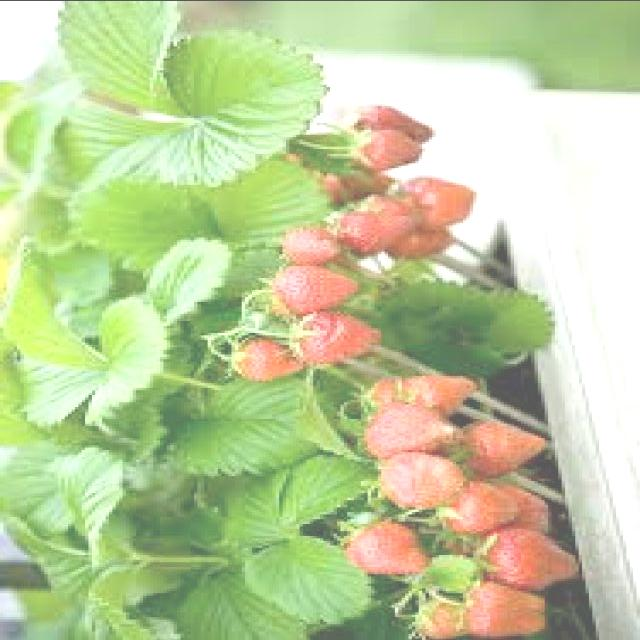ripe: (481, 532, 583, 592), (369, 450, 467, 510), (467, 576, 557, 638), (356, 398, 454, 454), (284, 308, 376, 367), (435, 478, 525, 538), (348, 516, 426, 582), (341, 92, 439, 142), (394, 171, 476, 226), (268, 260, 354, 312), (224, 330, 302, 387), (346, 123, 431, 171), (460, 422, 536, 472), (406, 592, 483, 640), (378, 220, 470, 260), (275, 222, 347, 269), (328, 210, 408, 252), (499, 482, 557, 536)
